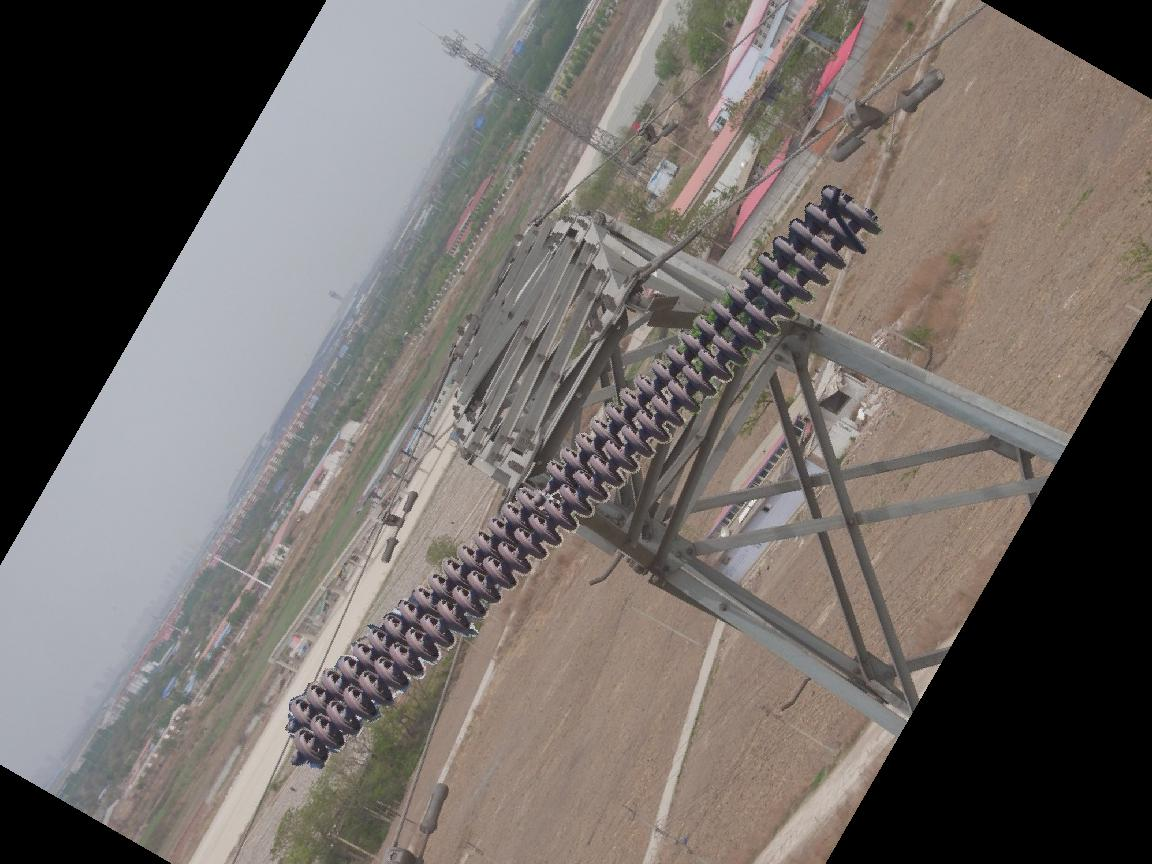insulator: (281, 181, 885, 771)
insulator_stringdrop: (515, 459, 571, 517)
